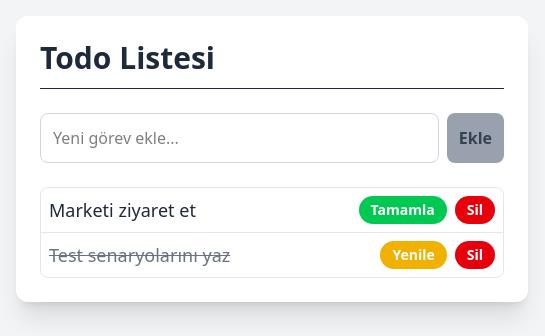
Test case: template spec › Tamamla butonuna tıklandığında görev butonu durumu değişir ve metin çizilir
This screenshot has width=545, height=336.
Click the button with test id "toggle-button" showing "Tamamla" at (403, 210), box [359,196,447,224]
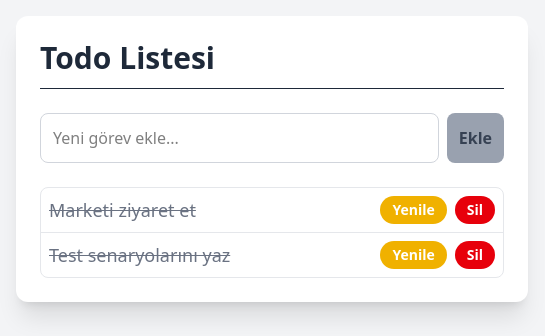
Expected: the button with test id "toggle-button" in the row of "Marketi ziyaret et" reads "Yenile", [380,196,446,224]
